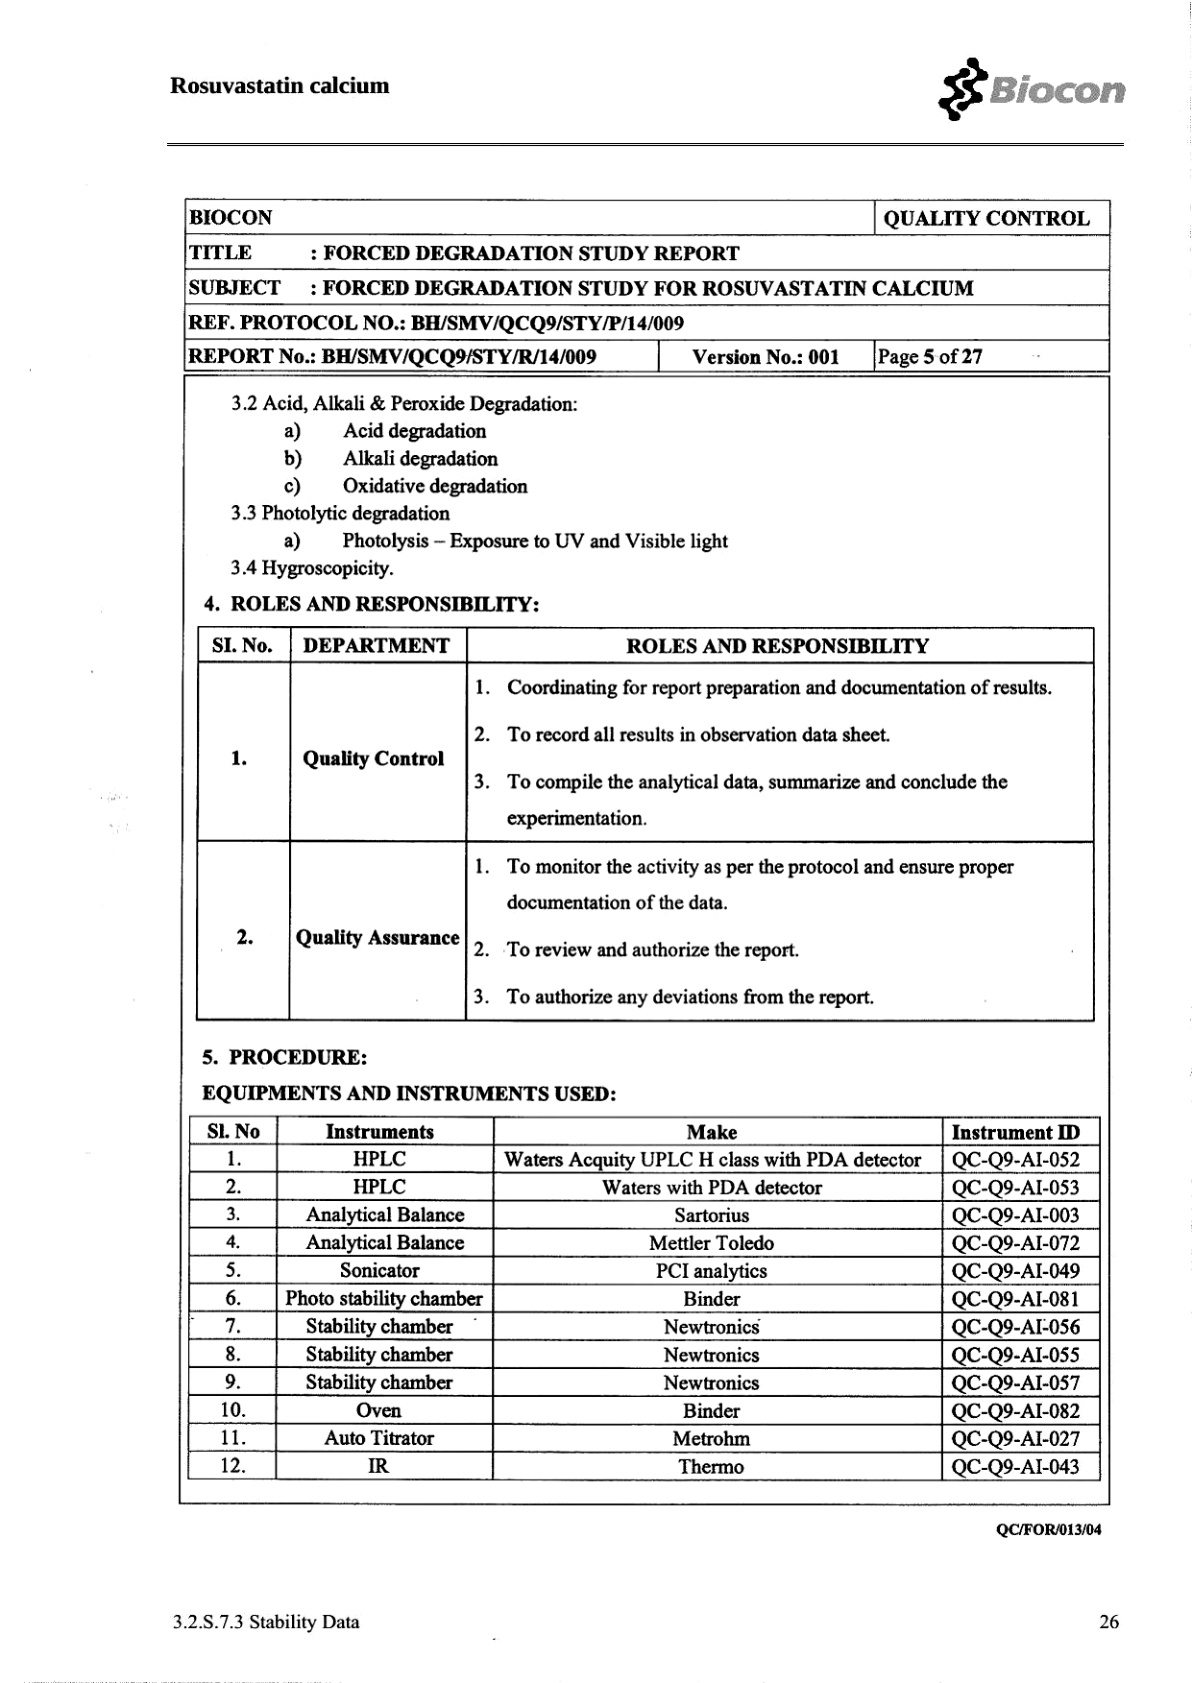full_lined: (195, 624, 1097, 1025), (188, 1114, 1103, 1484)
merged_cells: (182, 196, 1111, 374)
